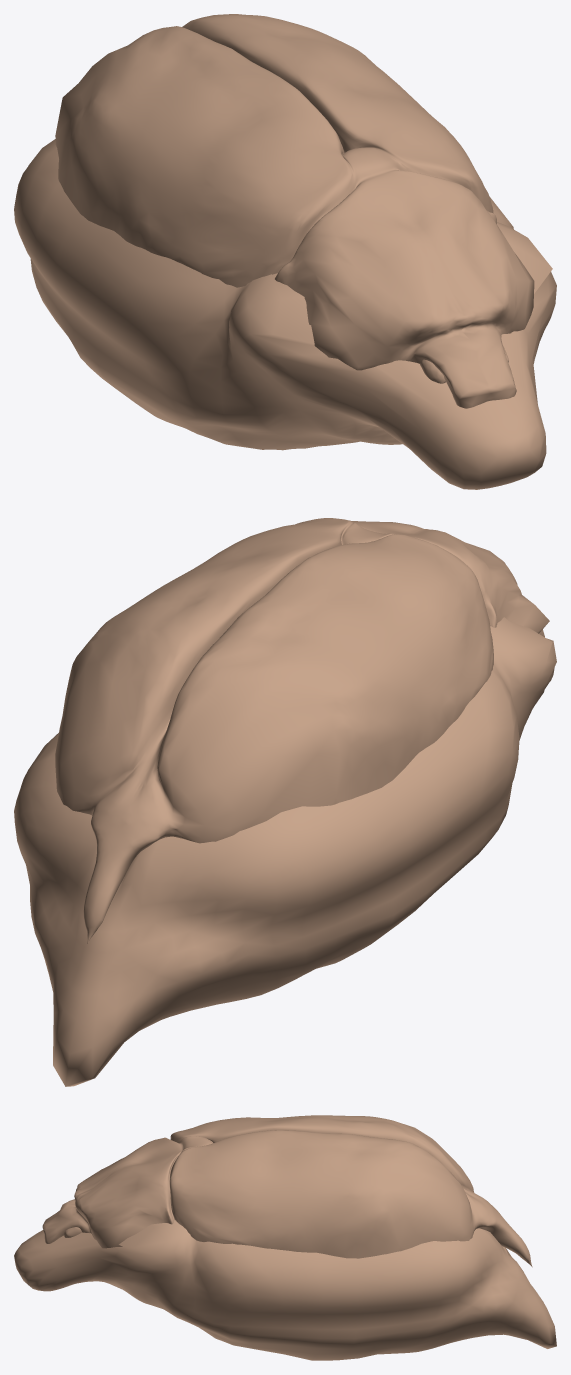
The model's file is Тело.fbx.
3 views of the same model, one above another, from view 1: azimuth 30°, elevation 25°; view 2: azimuth 150°, elevation 25°; view 3: azimuth 270°, elevation 25° (orthographic). The views are drawn at different scales.
Parts seen in each view (by area): view 1: sphere_Copy, sphere; view 2: sphere_Copy, sphere; view 3: sphere_Copy, sphere.
Boxes of the visible parts, box(x1,y1,x2,y2) form: sphere_Copy: box(55, 14, 534, 408); sphere: box(14, 139, 556, 489); sphere_Copy: box(55, 518, 549, 943); sphere: box(14, 617, 556, 1086); sphere_Copy: box(42, 1115, 532, 1267); sphere: box(14, 1220, 556, 1360).
Bounding box in the file's own units: 163 × 153 × 340.
